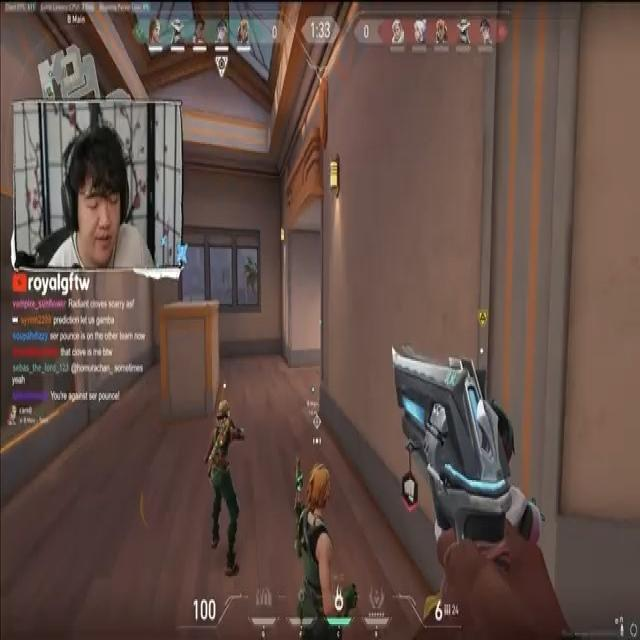ally: (286, 450, 353, 640), (200, 393, 248, 579)
